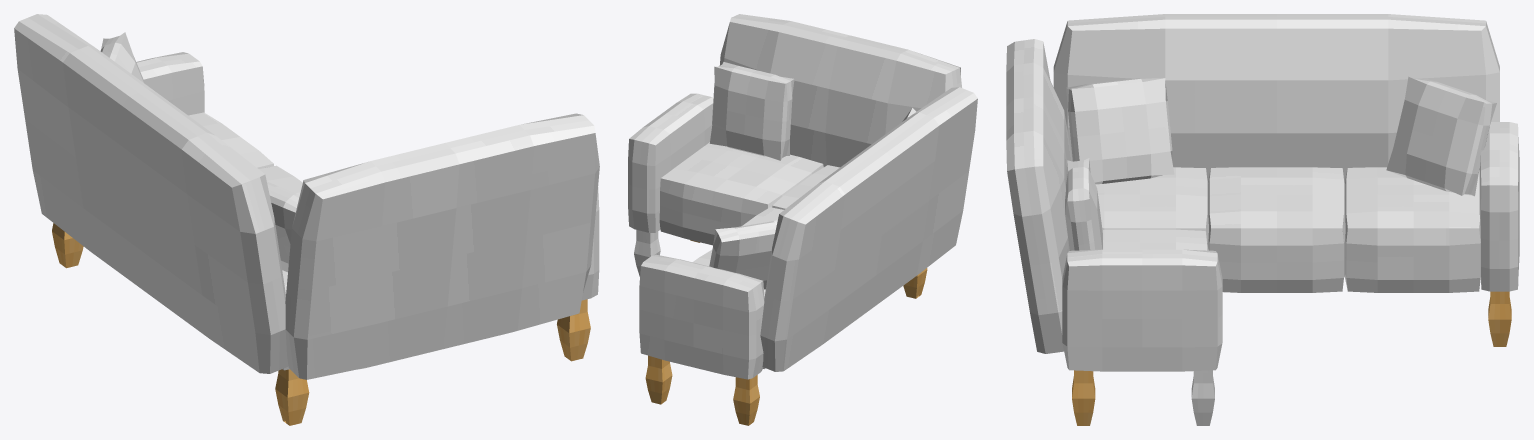
Rendered from simple_corner_sofa_2.obj.
The picture shows the model from 3 angles, left to right: view 1: azimuth 30°, elevation 25°; view 2: azimuth 150°, elevation 25°; view 3: azimuth 270°, elevation 25°; orthographic projection. The views are drawn at different scales.
Visible parts, largest first — view 1: Cube.002; view 2: Cube.002; view 3: Cube.002.
Boxes of the visible parts, left/top/right/bottom form: Cube.002: left=14, top=14, right=599, bottom=425; Cube.002: left=628, top=14, right=977, bottom=425; Cube.002: left=1006, top=14, right=1519, bottom=425.
Bounding box in the file's own units: 5.97 × 4.23 × 7.7.
